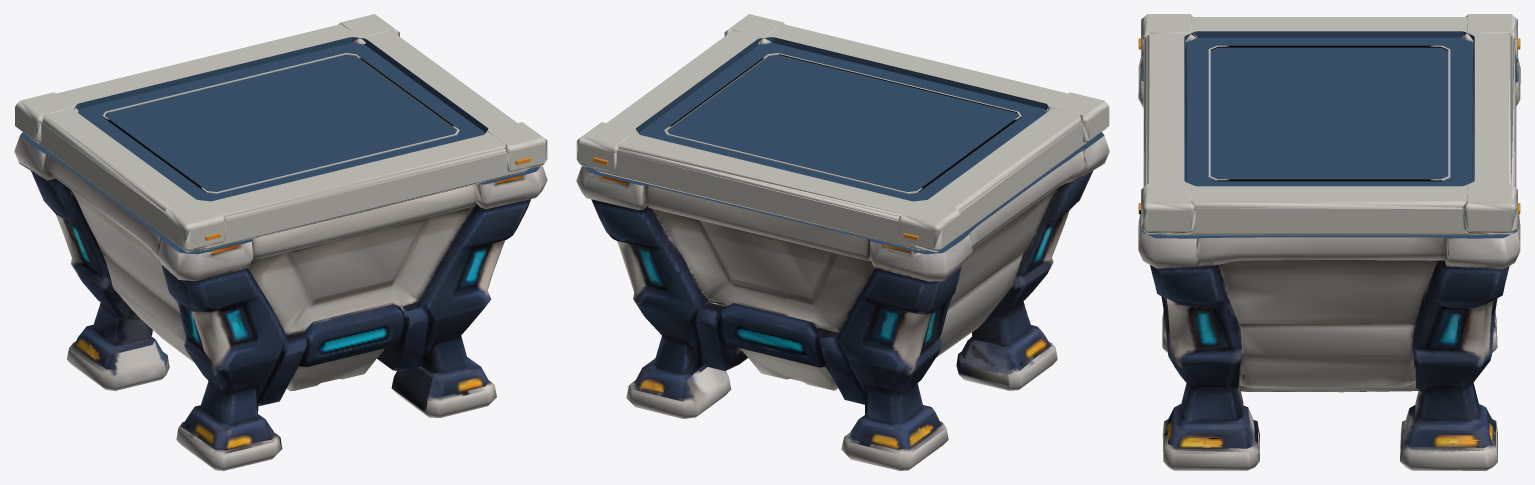
File: industrial-parts-hopper_LOD0.glb
The picture shows the model from 3 angles, left to right: view 1: azimuth 30°, elevation 25°; view 2: azimuth 150°, elevation 25°; view 3: azimuth 270°, elevation 25°; orthographic projection. The views are drawn at different scales.
Parts seen in each view (by area): view 1: industrial-parts-hopper_LOD0; view 2: industrial-parts-hopper_LOD0; view 3: industrial-parts-hopper_LOD0.
Part boxes in pixels (x1,y1,x2,y2): industrial-parts-hopper_LOD0: (14, 14, 547, 470); industrial-parts-hopper_LOD0: (576, 14, 1109, 470); industrial-parts-hopper_LOD0: (1138, 14, 1520, 470).
Size of the model in its own units: 1.82 by 1.25 by 1.5.
1 material, 1 textured.
